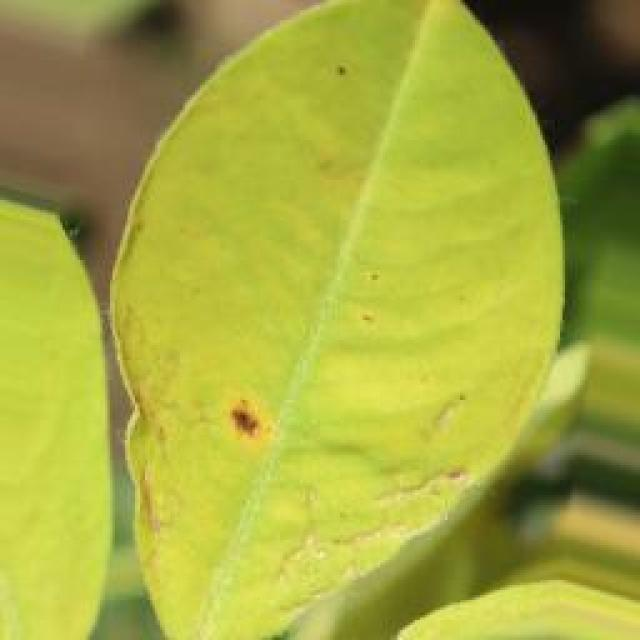Sigatoka: (204, 379, 284, 457), (324, 56, 379, 123), (443, 460, 498, 510)
